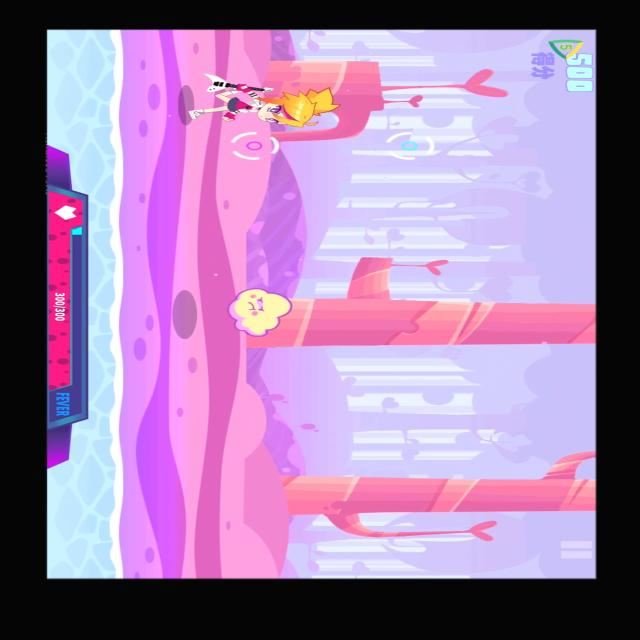yun: (218, 287, 298, 341)
